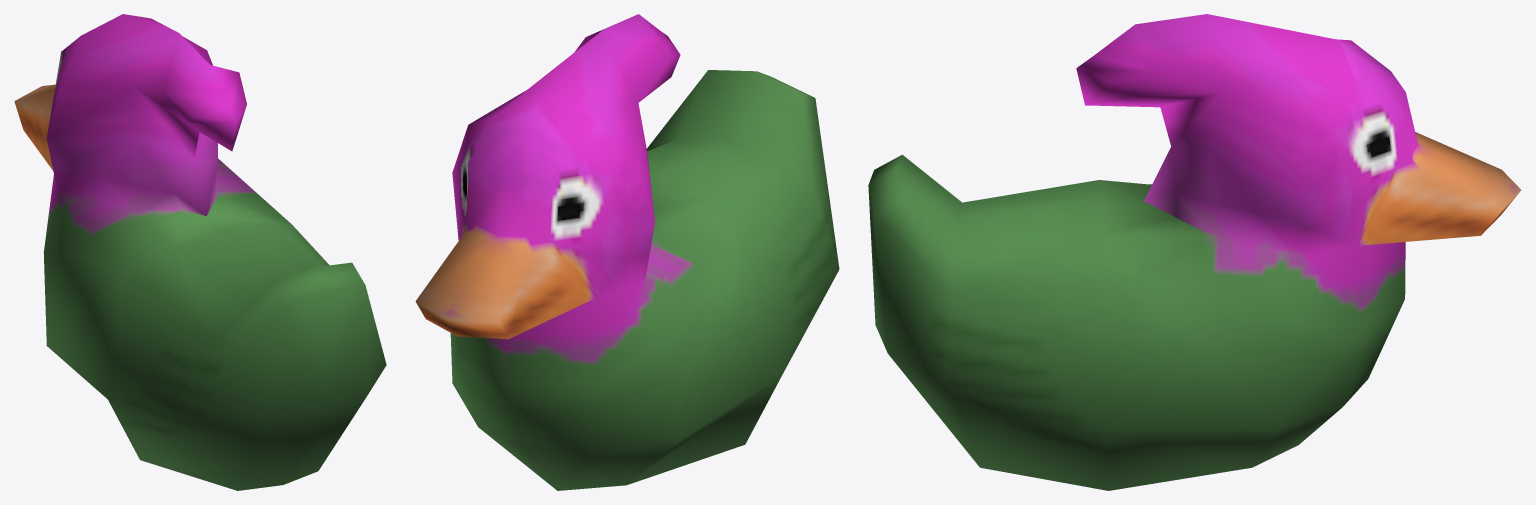
File: duck_jayne.fbx
3 views of the same model, side by side, from view 1: azimuth 30°, elevation 25°; view 2: azimuth 150°, elevation 25°; view 3: azimuth 270°, elevation 25° (orthographic). The views are drawn at different scales.
Visible parts, largest first — view 1: jaynie; view 2: jaynie; view 3: jaynie.
Part boxes in pixels (x1,y1,x2,y2): jaynie: (14,14,386,490); jaynie: (415,14,839,490); jaynie: (868,14,1521,490).
Size of the model in its own units: 0.1099 by 0.1728 by 0.2373.
